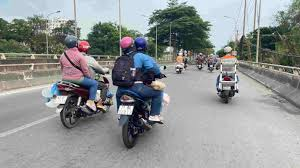Bien-so: (117, 104, 134, 116), (57, 95, 68, 105)
